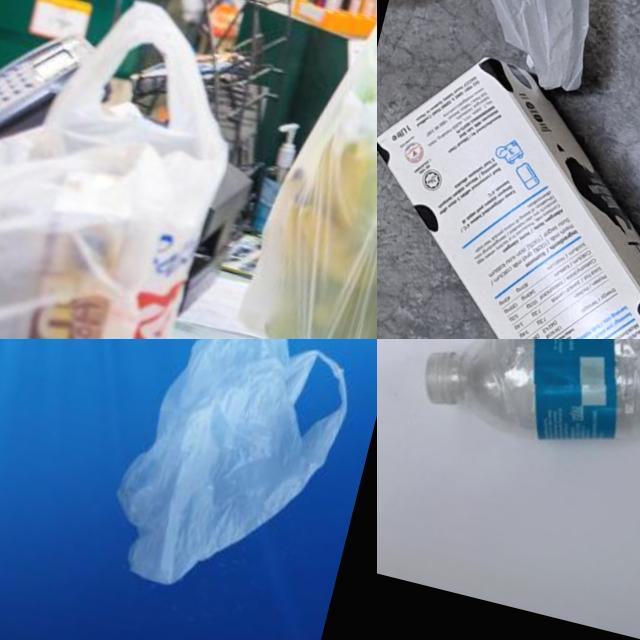caixinha: (377, 36, 640, 339)
garrafa plástica: (444, 339, 640, 500)
sacola plástica: (0, 0, 273, 339), (86, 339, 377, 640), (226, 0, 377, 339), (377, 0, 614, 98)
tampa plástica: (418, 344, 474, 410)
